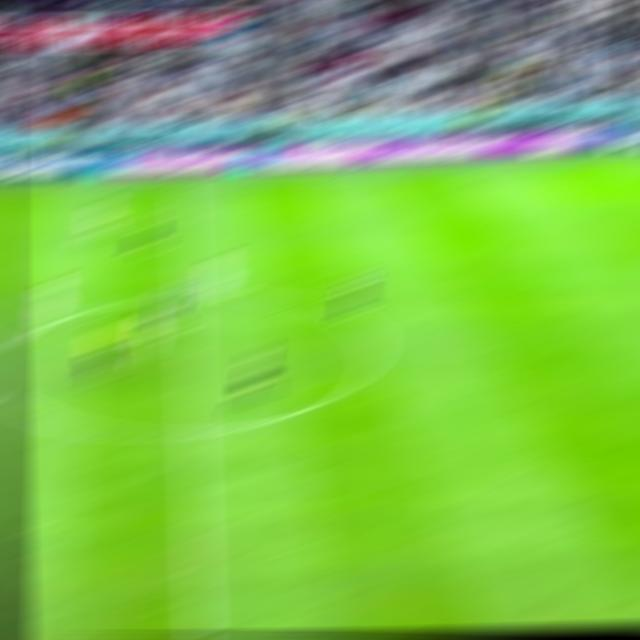halfcircle_bottom: (177, 424, 208, 441)
halfcircle_top: (175, 288, 199, 303)
midline_top_intersection: (171, 180, 194, 192)
